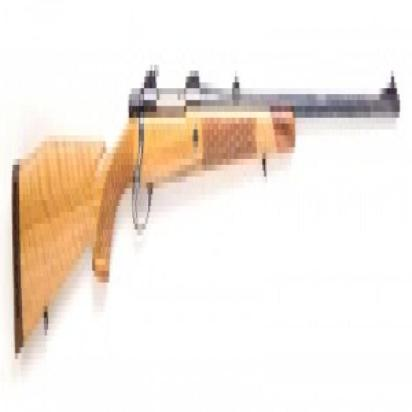Gun: (11, 61, 404, 363)
